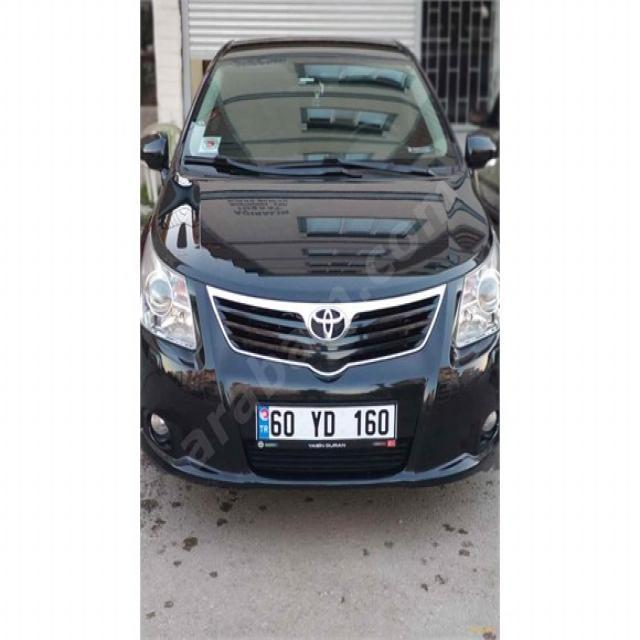plate: (256, 404, 400, 450)
